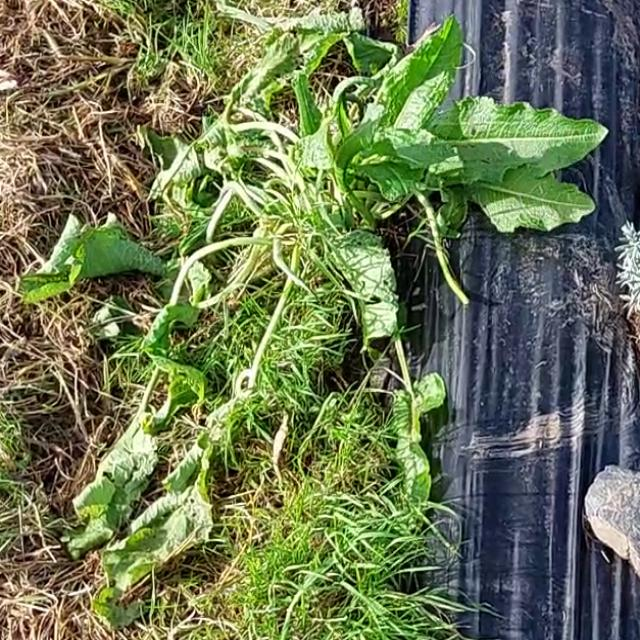organic waste: (204, 0, 611, 255), (0, 179, 347, 341), (70, 338, 268, 598)
